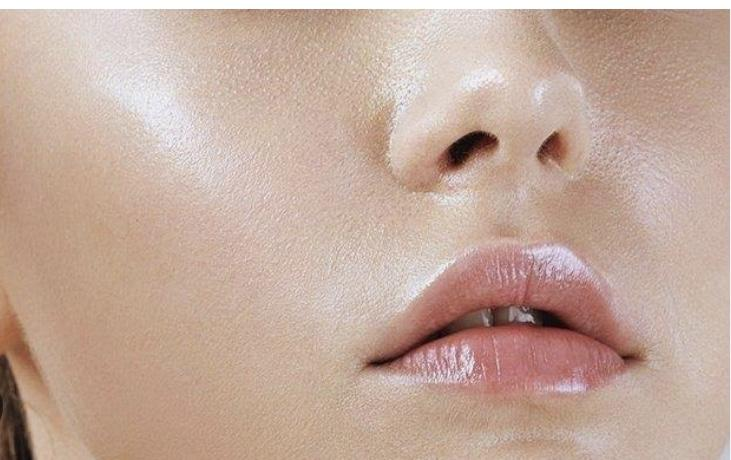Oily-Skin: (380, 25, 644, 208), (131, 235, 316, 460), (361, 315, 518, 454), (589, 226, 713, 394), (263, 63, 389, 221), (116, 44, 219, 216), (54, 279, 55, 280)
